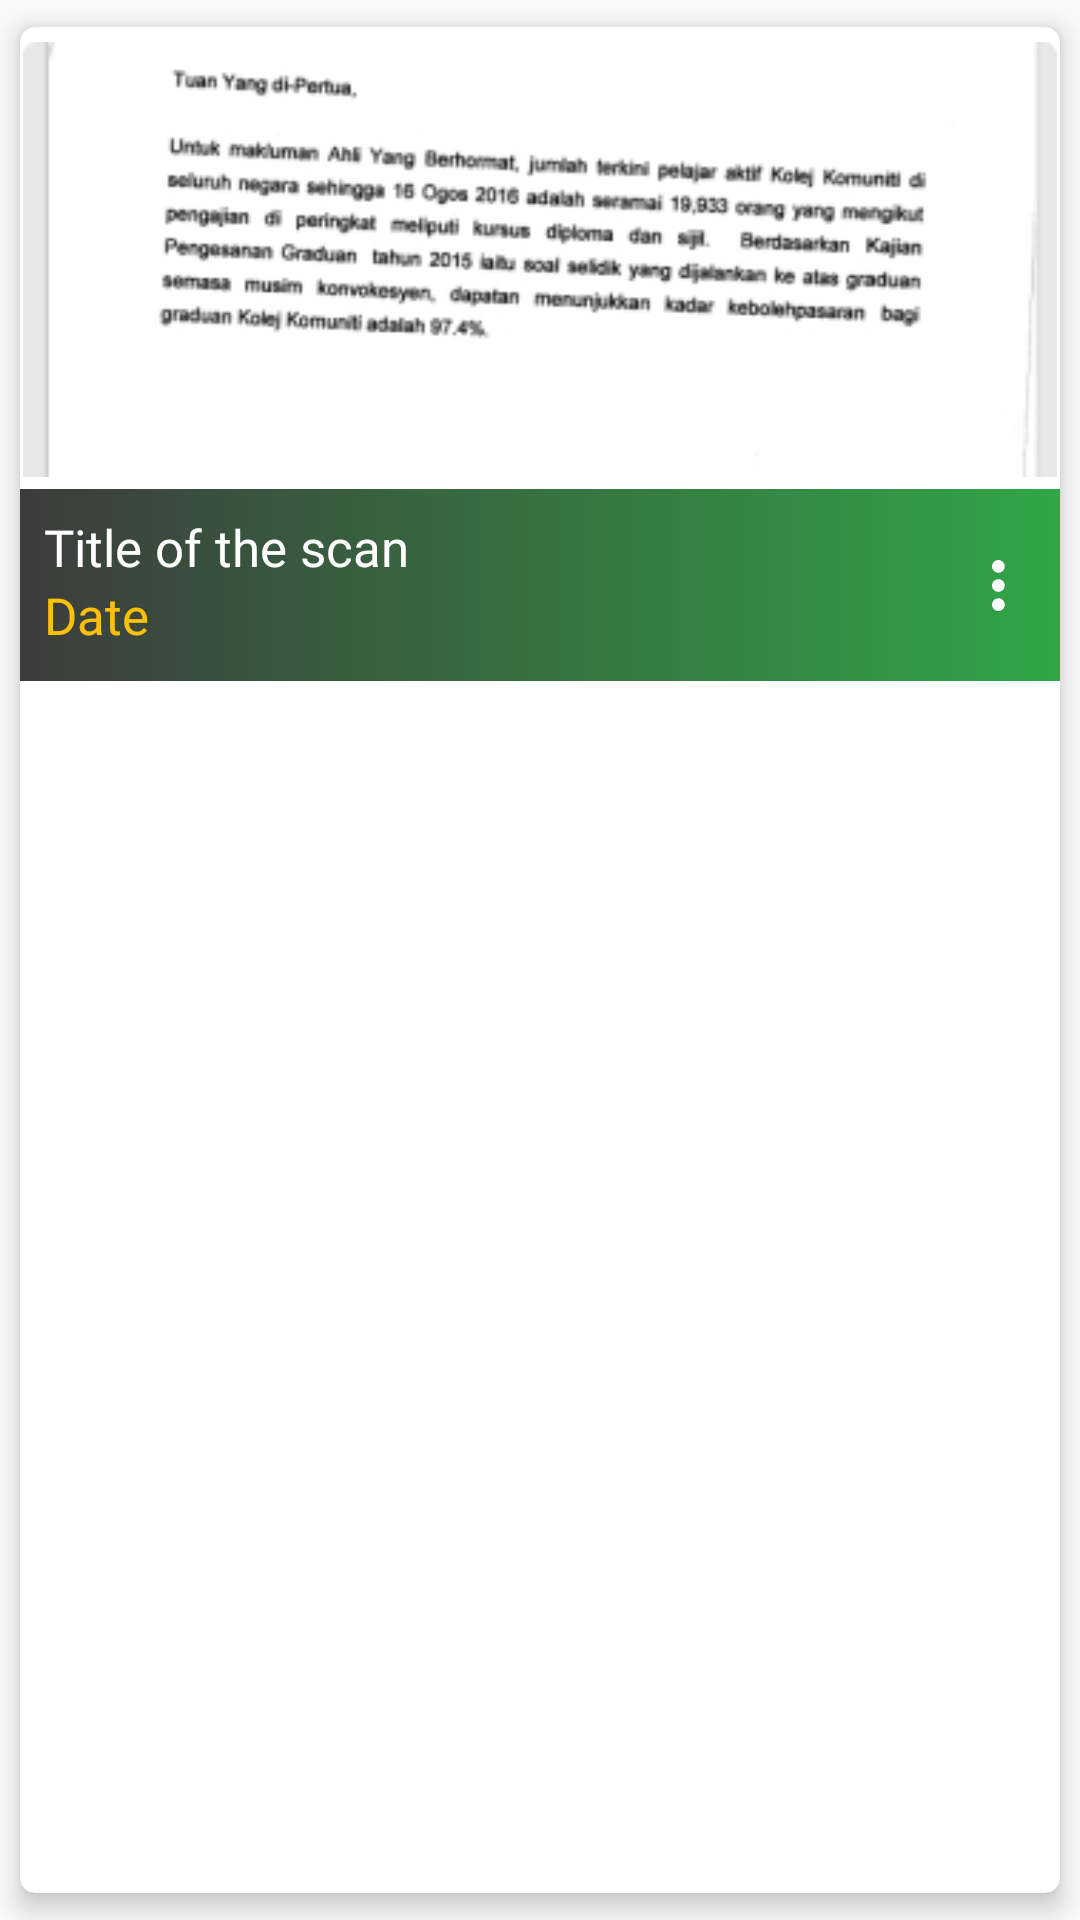

Point at icon controls on the screen. Image size 1080×1920, points as point (x, y).
dot: point (999, 585)
